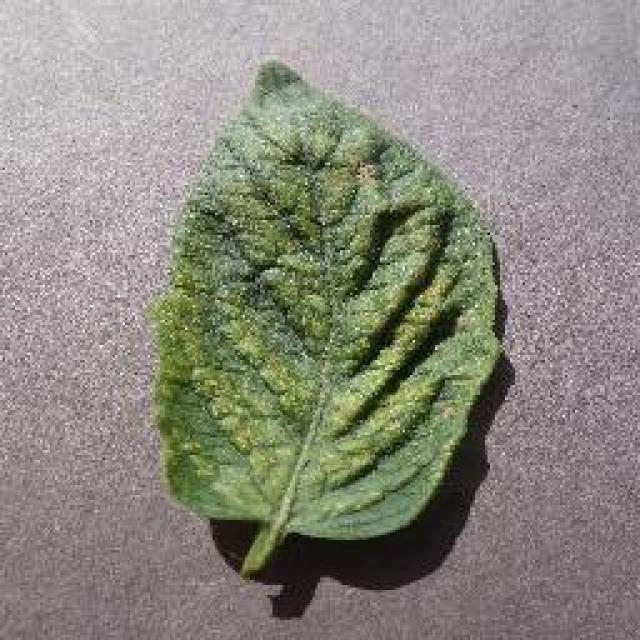Tom_Spider_mites Two-spotted_spider_mite: (199, 139, 459, 491)
